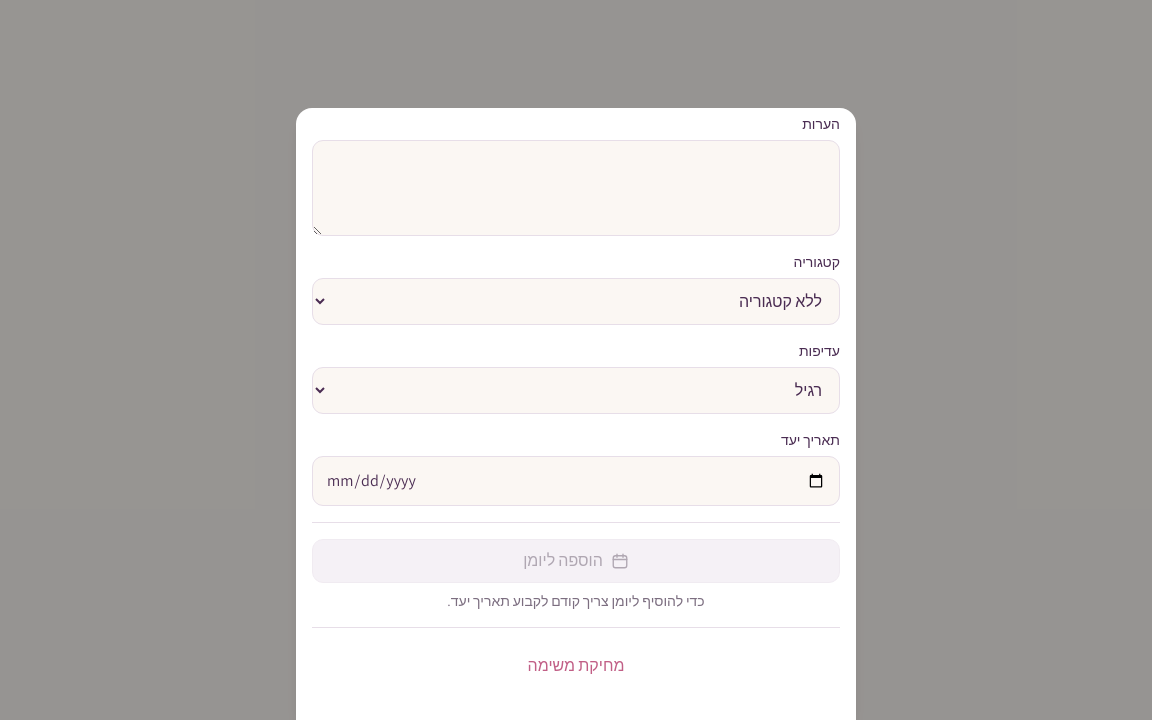
Test case: TaskEditPanel › cancels the delete confirmation
(page scrolled)
Click the button "מחיקת משימה" at point(576, 666), box [312,644,840,688]
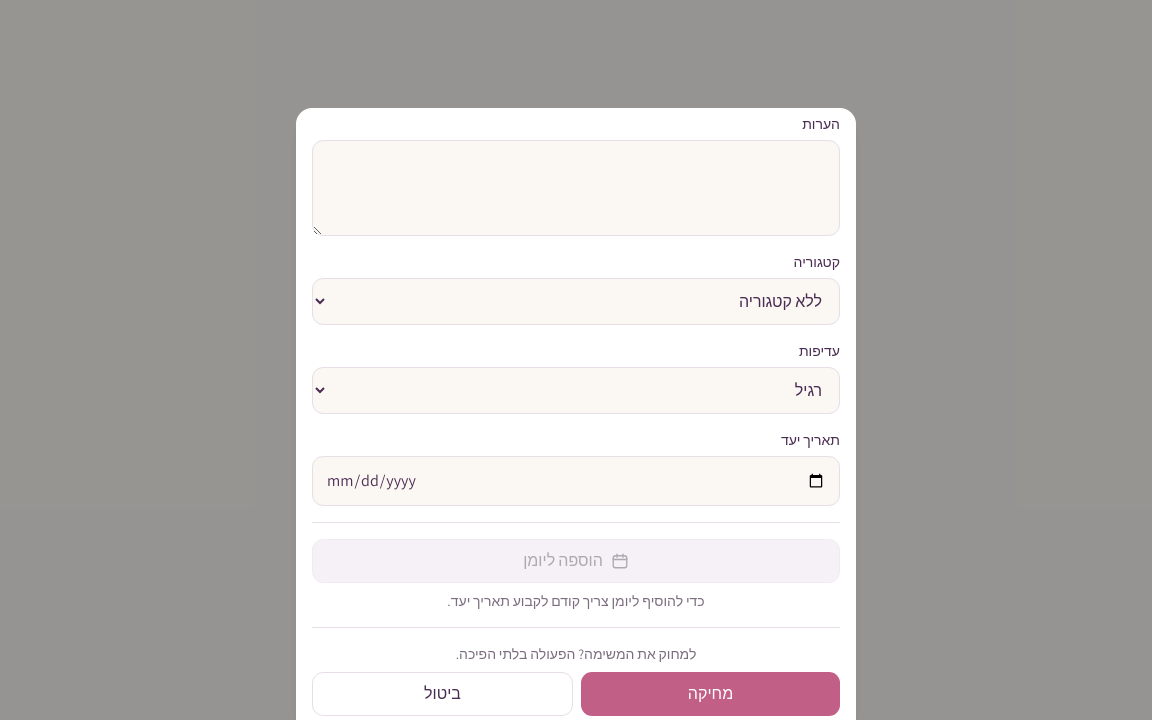
Click the button "ביטול" at point(442, 694), box [312,672,573,716]
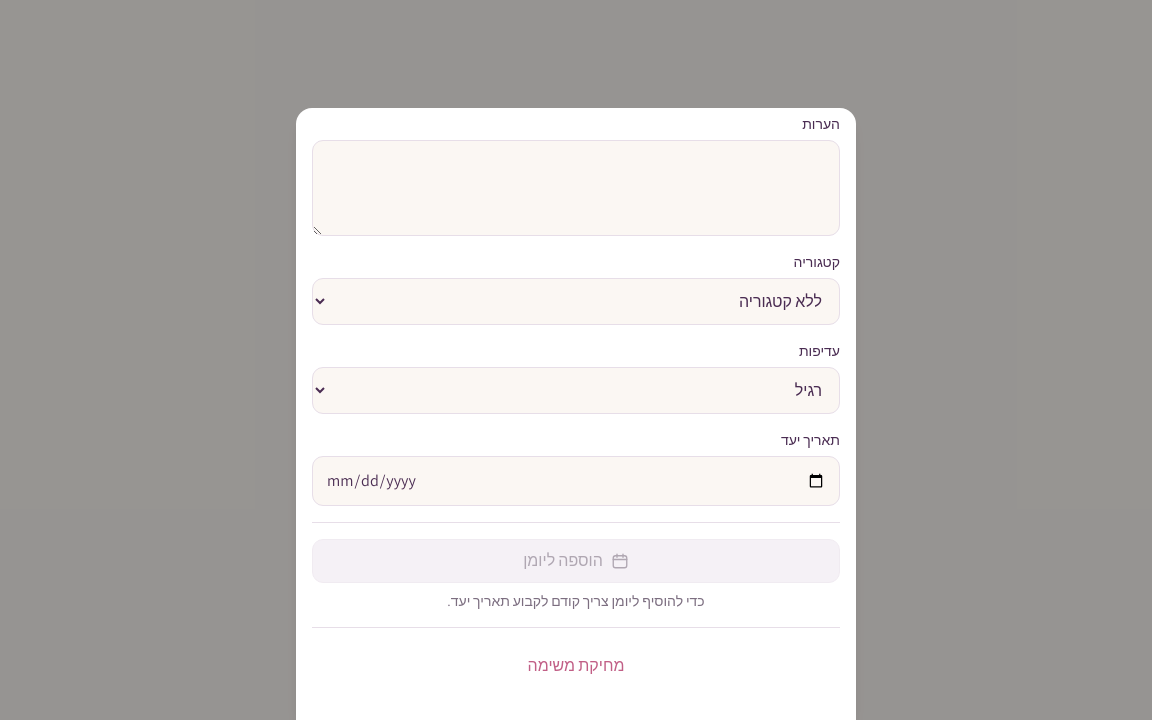
Expected: the button "מחיקת משימה" is shown, [312,644,840,688]
